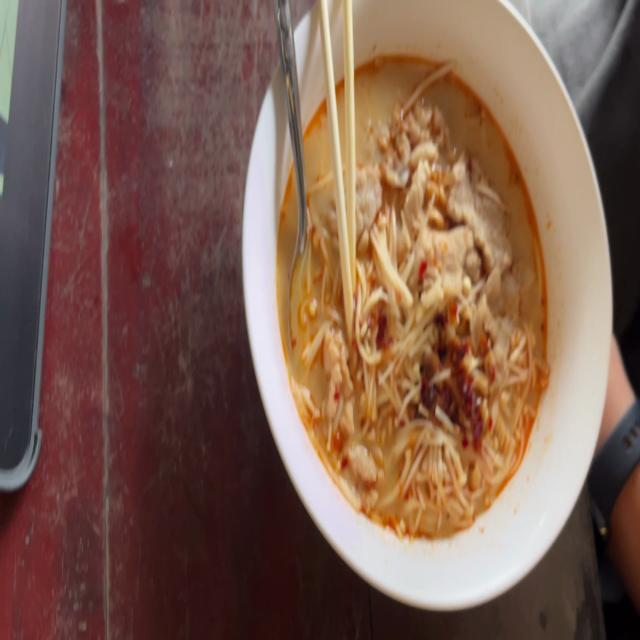noodle: (261, 41, 560, 555)
